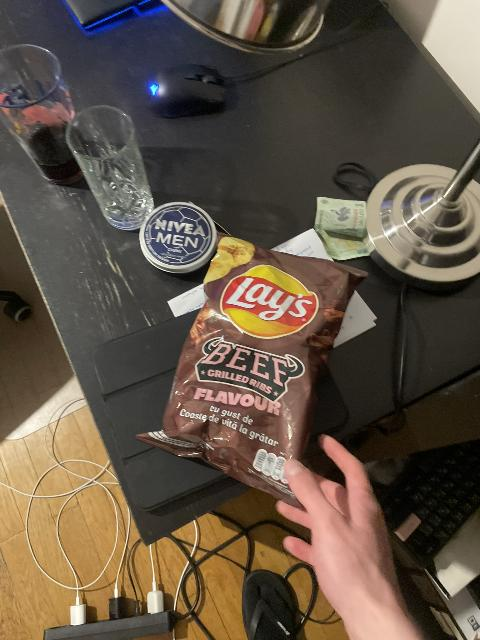Lays Beef Grilled Ribs 125g: (136, 233, 366, 501)
